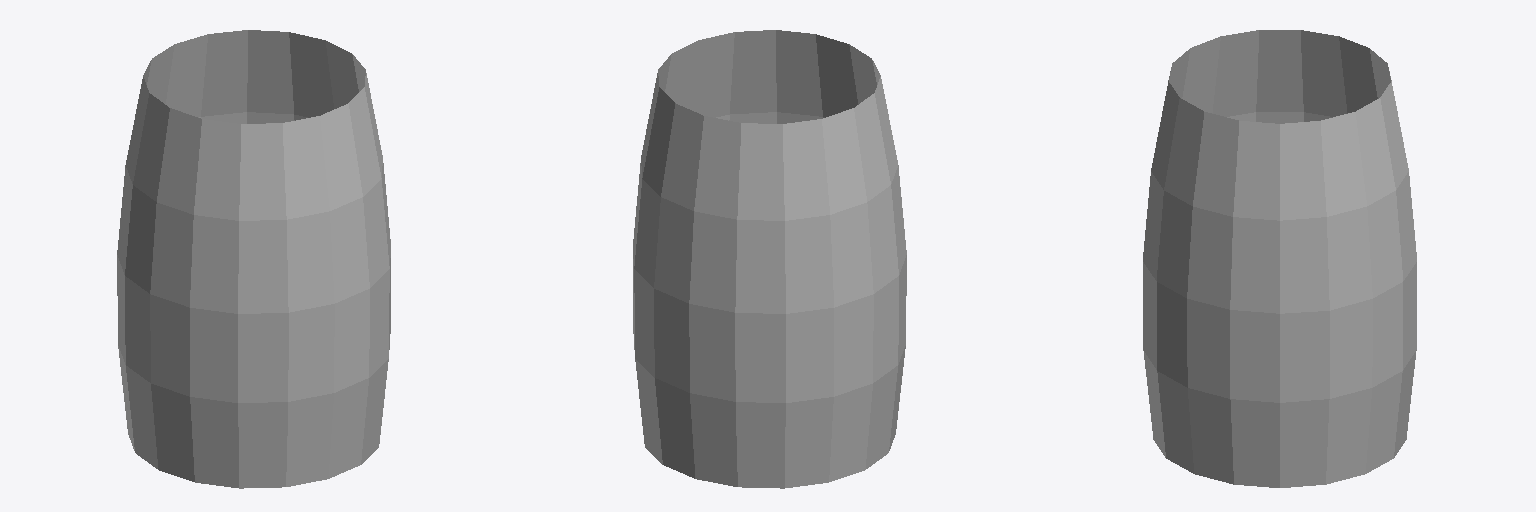
Rendered from body01.obj.
3 views of the same model, side by side, from view 1: azimuth 30°, elevation 25°; view 2: azimuth 150°, elevation 25°; view 3: azimuth 270°, elevation 25° (orthographic).
Visible parts, largest first — view 1: CUPIC_ROCKETSHIP.050; view 2: CUPIC_ROCKETSHIP.050; view 3: CUPIC_ROCKETSHIP.050.
Boxes of the visible parts, x1=… form: CUPIC_ROCKETSHIP.050: x1=117, y1=30, x2=390, y2=488; CUPIC_ROCKETSHIP.050: x1=633, y1=30, x2=906, y2=488; CUPIC_ROCKETSHIP.050: x1=1143, y1=30, x2=1416, y2=487.
Bounding box in the file's own units: 9.36 × 13.52 × 9.4.